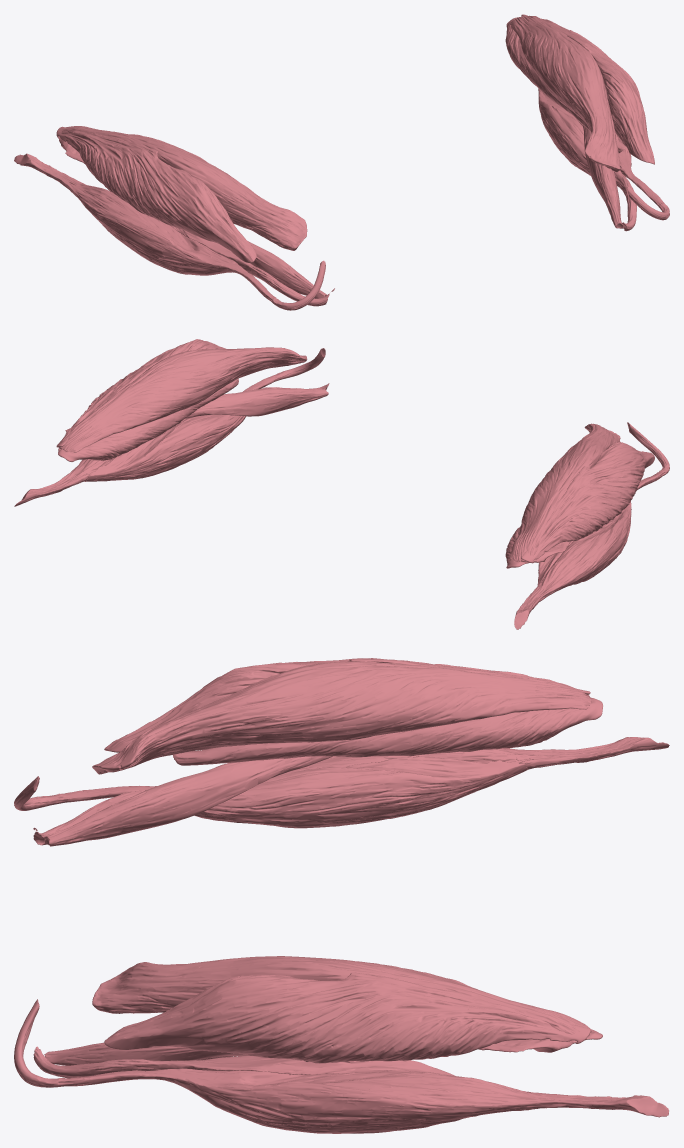
File: bras-muscles.glb
3 views of the same model, one above another, from view 1: azimuth 30°, elevation 25°; view 2: azimuth 150°, elevation 25°; view 3: azimuth 270°, elevation 25° (orthographic). The views are drawn at different scales.
Parts seen in each view (by area): view 1: triceps_brachial_chef_lateral_droit, biceps_brachial_chef_long_droit, triceps_brachial_chef_long_gauche, triceps_brachial_chef_long_droit, triceps_brachial_chef_lateral_gauche, biceps_brachial_chef_court_gauche, biceps_brachial_chef_court_droit, coraco_brachial_droit, coraco_brachial_gauche, triceps_brachial_chef_medial_gauche, biceps_brachial_chef_long_gauche; view 2: triceps_brachial_chef_long_gauche, triceps_brachial_chef_lateral_droit, biceps_brachial_chef_court_gauche, biceps_brachial_chef_long_droit, triceps_brachial_chef_long_droit, coraco_brachial_gauche, triceps_brachial_chef_medial_gauche, biceps_brachial_chef_long_gauche, triceps_brachial_chef_lateral_gauche, triceps_brachial_chef_medial_droit; view 3: triceps_brachial_chef_lateral_gauche, triceps_brachial_chef_long_droit, biceps_brachial_chef_long_gauche, biceps_brachial_chef_court_droit, triceps_brachial_chef_long_gauche, triceps_brachial_chef_medial_droit, coraco_brachial_droit, biceps_brachial_chef_long_droit, biceps_brachial_chef_court_gauche, triceps_brachial_chef_lateral_droit, coraco_brachial_gauche, triceps_brachial_chef_medial_gauche.
Boxes of the visible parts, <box> form: triceps_brachial_chef_lateral_droit: <box>56,126,256,262</box>; biceps_brachial_chef_long_droit: <box>14,153,325,310</box>; triceps_brachial_chef_long_gauche: <box>510,15,620,172</box>; triceps_brachial_chef_long_droit: <box>61,126,307,250</box>; triceps_brachial_chef_lateral_gauche: <box>521,14,654,164</box>; biceps_brachial_chef_court_gauche: <box>538,88,636,231</box>; biceps_brachial_chef_court_droit: <box>82,183,334,306</box>; coraco_brachial_droit: <box>248,241,326,298</box>; coraco_brachial_gauche: <box>583,125,623,228</box>; triceps_brachial_chef_medial_gauche: <box>505,17,625,153</box>; biceps_brachial_chef_long_gauche: <box>615,132,669,220</box>; triceps_brachial_chef_long_gauche: <box>58,347,307,452</box>; triceps_brachial_chef_lateral_droit: <box>521,442,654,563</box>; biceps_brachial_chef_court_gauche: <box>83,383,329,481</box>; biceps_brachial_chef_long_droit: <box>514,422,669,629</box>; triceps_brachial_chef_long_droit: <box>509,423,620,562</box>; coraco_brachial_gauche: <box>185,388,328,418</box>; triceps_brachial_chef_medial_gauche: <box>58,378,238,461</box>; biceps_brachial_chef_long_gauche: <box>14,348,325,506</box>; triceps_brachial_chef_lateral_gauche: <box>56,339,226,447</box>; triceps_brachial_chef_medial_droit: <box>505,525,570,568</box>; triceps_brachial_chef_lateral_gauche: <box>104,972,590,1063</box>; triceps_brachial_chef_long_droit: <box>92,661,591,774</box>; biceps_brachial_chef_long_gauche: <box>14,999,668,1133</box>; biceps_brachial_chef_court_droit: <box>33,756,533,845</box>; triceps_brachial_chef_long_gauche: <box>92,956,591,1036</box>; triceps_brachial_chef_medial_droit: <box>173,697,602,765</box>; coraco_brachial_droit: <box>44,756,332,846</box>; biceps_brachial_chef_long_droit: <box>14,737,669,810</box>; biceps_brachial_chef_court_gauche: <box>33,1046,531,1092</box>; triceps_brachial_chef_lateral_droit: <box>104,658,590,752</box>; coraco_brachial_gauche: <box>44,1042,295,1065</box>; triceps_brachial_chef_medial_gauche: <box>478,1029,602,1052</box>.
Bounding box in the file's own units: 460 × 91.21 × 346.
